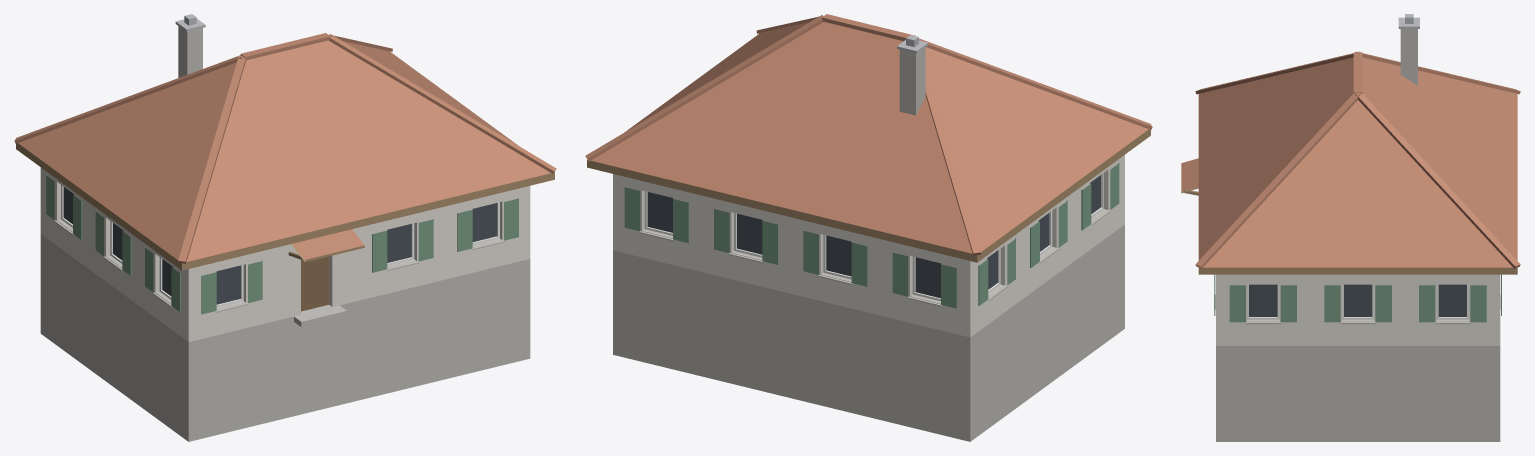
The model's file is french_house_1_m.glb.
The picture shows the model from 3 angles, left to right: view 1: azimuth 30°, elevation 25°; view 2: azimuth 150°, elevation 25°; view 3: azimuth 270°, elevation 25°; orthographic projection. The views are drawn at different scales.
Visible parts, largest first — view 1: french_house_1_m; view 2: french_house_1_m; view 3: french_house_1_m.
Boxes of the visible parts, x1,y1,x2,y2 form: french_house_1_m: [14, 14, 556, 441]; french_house_1_m: [585, 14, 1152, 441]; french_house_1_m: [1181, 14, 1520, 441].
Bounding box in the file's own units: 13.3 × 10.97 × 10.75.
